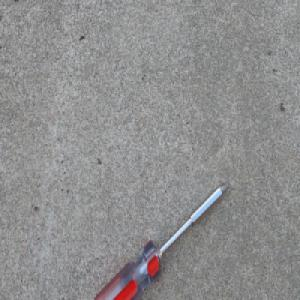Screwdriver: (92, 180, 231, 300)
